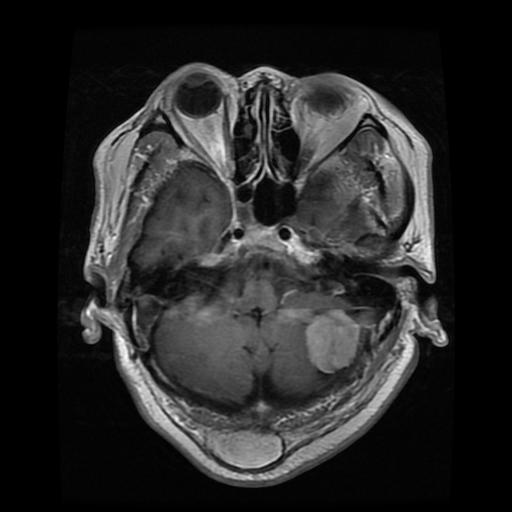Menigiomia_tumour: (301, 312, 355, 368)
